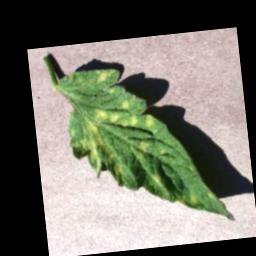Leaf_Mold: (69, 106, 134, 182), (135, 140, 150, 158), (95, 69, 110, 83), (144, 113, 155, 128), (128, 115, 138, 127)
